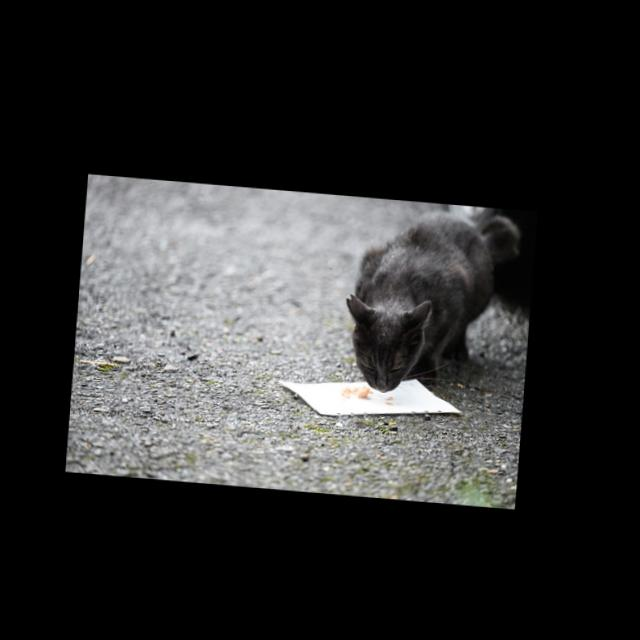animals: (343, 198, 524, 395)
